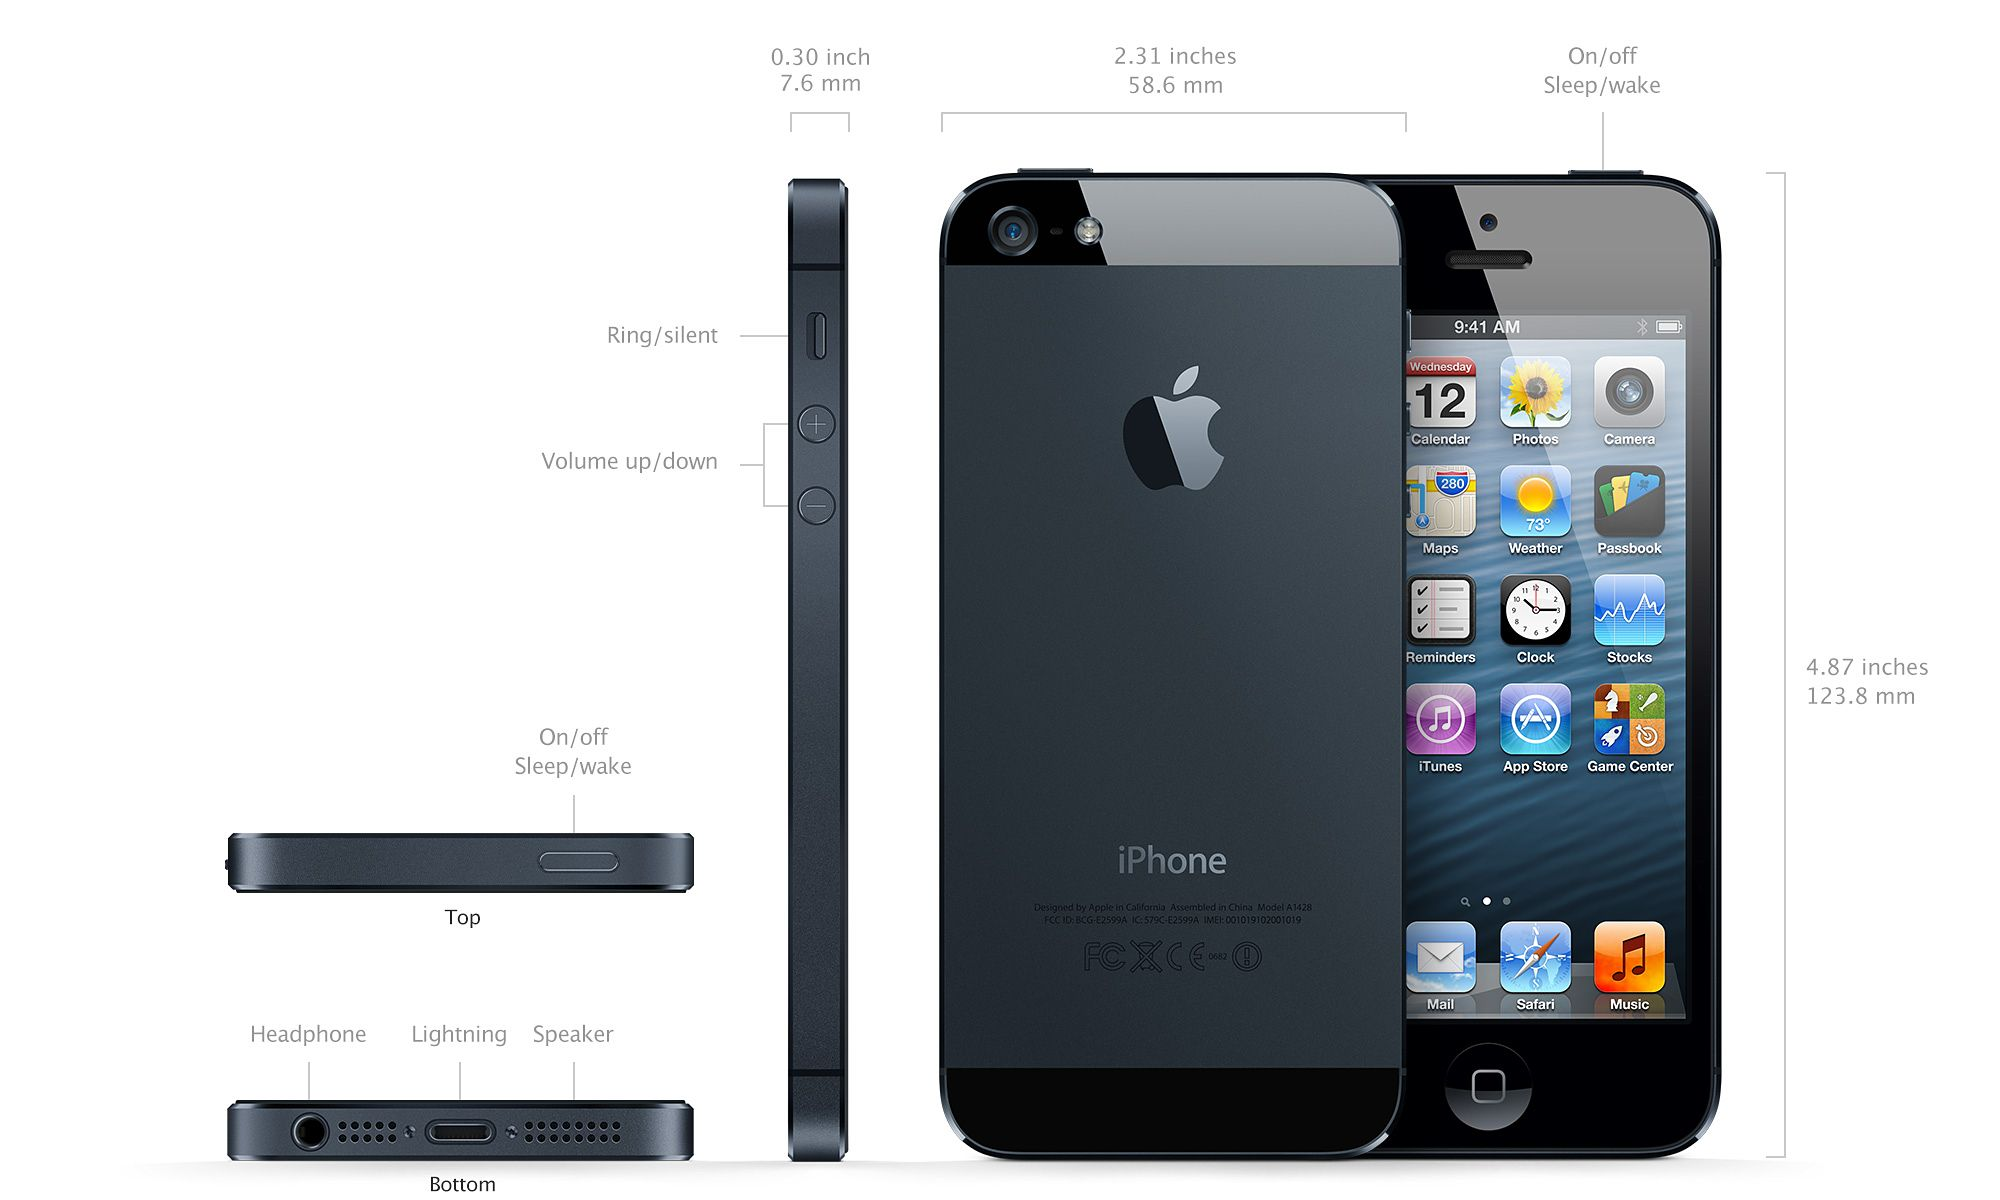Apple: (1099, 327, 1267, 514), (1091, 810, 1270, 889)
